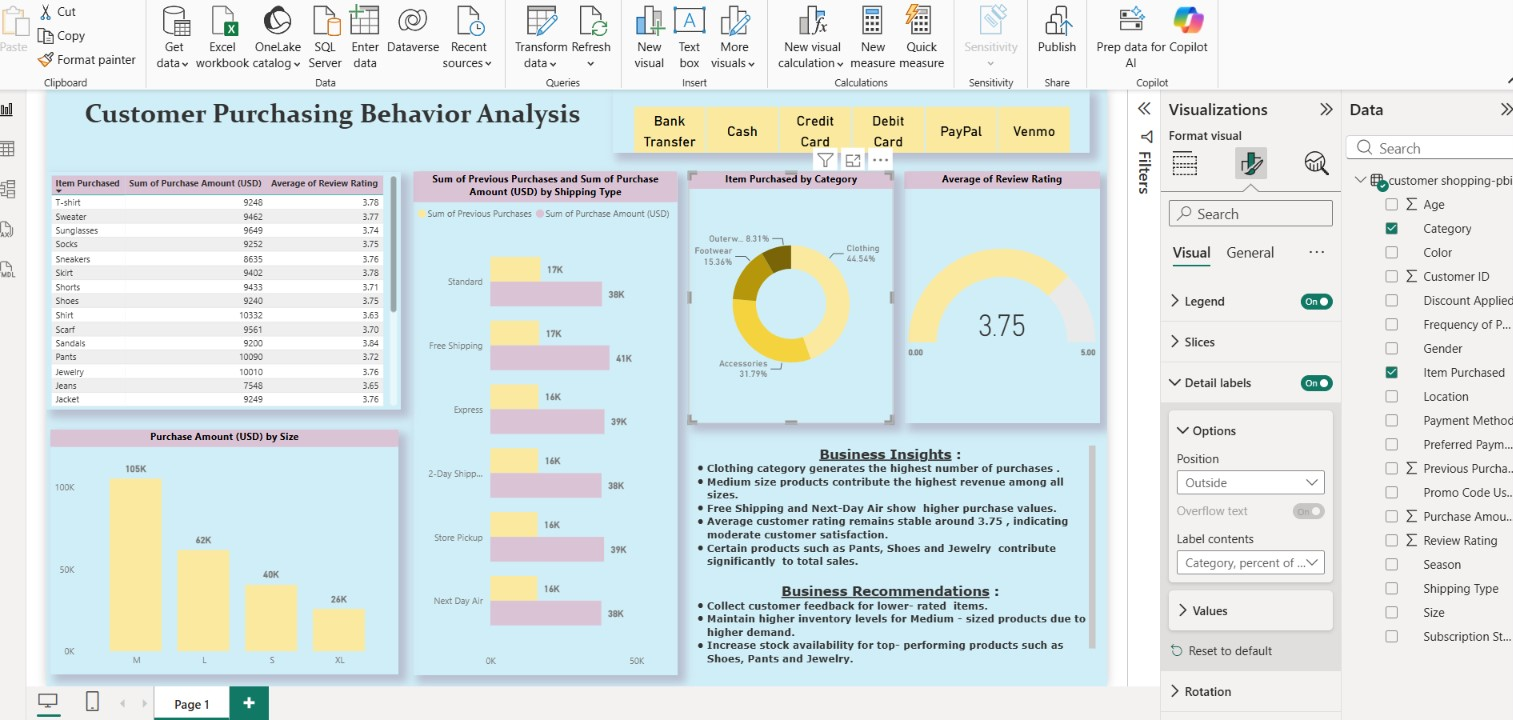

The dashboard page shown, as its layout file describes it:
{"tool":"powerbi","page":{"name":"Page 1","canvas":[1280,720],"ordinal":0},"visuals":[{"type":"textbox","box":[40.7,4.9,661.7,71.6],"z":0},{"type":"slicer","fields":{"Values":["customer shopping-pbi.Payment Method"]},"box":[682.4,0,575.8,76.3],"z":1000},{"type":"gauge","fields":{"Y":["Avg(customer shopping-pbi.Review Rating)"]},"box":[1034.6,98.8,235.8,303.7],"z":2000},{"type":"clusteredBarChart","fields":{"Category":["customer shopping-pbi.Shipping Type"],"Y":["Sum(customer shopping-pbi.Previous Purchases)","Sum(customer shopping-pbi.Purchase Amount (USD))"]},"box":[442.8,98.9,318.5,606.8],"z":3000},{"type":"clusteredColumnChart","title":"Purchase Amount (USD) by Size","fields":{"Category":["customer shopping-pbi.Size"],"Y":["Sum(customer shopping-pbi.Purchase Amount (USD))"]},"box":[4.8,410.2,419.8,295.6],"z":4000},{"type":"tableEx","fields":{"Values":["customer shopping-pbi.Item Purchased","Sum(customer shopping-pbi.Purchase Amount (USD))","Avg(customer shopping-pbi.Review Rating)"]},"box":[0,98.9,428.3,287.1],"z":5000},{"type":"donutChart","title":" Item Purchased by Category","fields":{"Y":["CountNonNull(customer shopping-pbi.Item Purchased)"],"Category":["customer shopping-pbi.Category"]},"box":[774.1,98.8,248.1,303.7],"z":6000},{"type":"textbox","box":[774.1,424.7,496.3,281.5],"z":7000}]}

Visuals, with their boxes on the page's 1280x720 design canvas (x1, y1, x2, y2). These are canvas units, not pixel positions in the 1513x720 screenshot, which may show the page scaled, cropped or inside an application window:
textbox: [x1=41, y1=5, x2=702, y2=76]
slicer - customer shopping-pbi.Payment Method: [x1=682, y1=0, x2=1258, y2=76]
gauge - Avg(customer shopping-pbi.Review Rating): [x1=1035, y1=99, x2=1270, y2=402]
clusteredBarChart - customer shopping-pbi.Shipping Type x Sum(customer shopping-pbi.Previous Purchases): [x1=443, y1=99, x2=761, y2=706]
"Purchase Amount (USD) by Size" clusteredColumnChart: [x1=5, y1=410, x2=425, y2=706]
tableEx - customer shopping-pbi.Item Purchased x Sum(customer shopping-pbi.Purchase Amount (USD)): [x1=0, y1=99, x2=428, y2=386]
" Item Purchased by Category" donutChart: [x1=774, y1=99, x2=1022, y2=402]
textbox: [x1=774, y1=425, x2=1270, y2=706]
